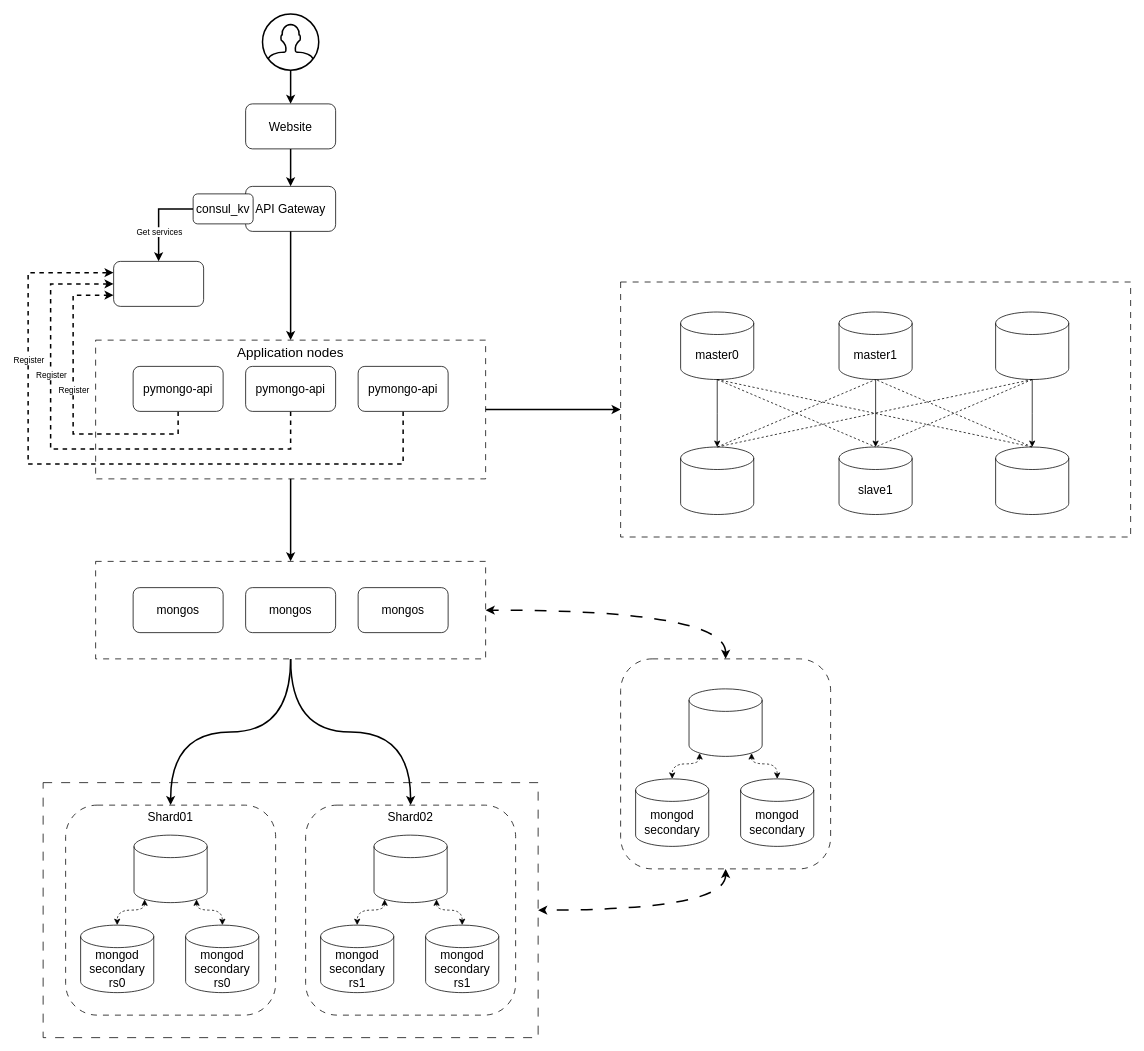
Image size: 1144x1051. Some labels were removed from this diagram. Here are the shapes that lost their labels. From the top down, the box of each, then its label:
(113, 261, 204, 306): Consul
(995, 311, 1069, 380): master2
(620, 281, 1131, 537): Redis cluster
(680, 446, 754, 514): slave0
(995, 446, 1069, 514): slave2
(95, 561, 486, 659): Routers
(688, 688, 762, 756): mongod primary
(620, 658, 831, 869): Config Server
(133, 834, 207, 903): mongod primary rs0
(373, 834, 447, 903): mongod primary rs1
